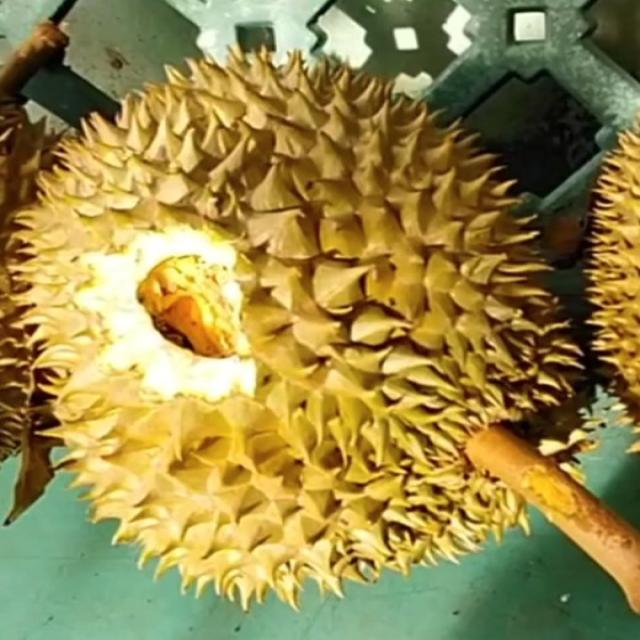defective: (8, 38, 588, 609)
